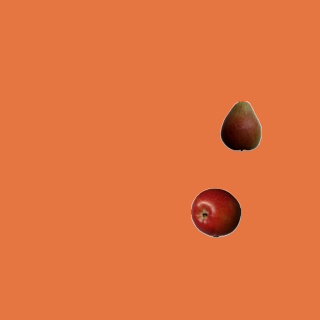Apple Braeburn: (190, 187, 240, 237)
Pear Forelle: (215, 100, 265, 150)
